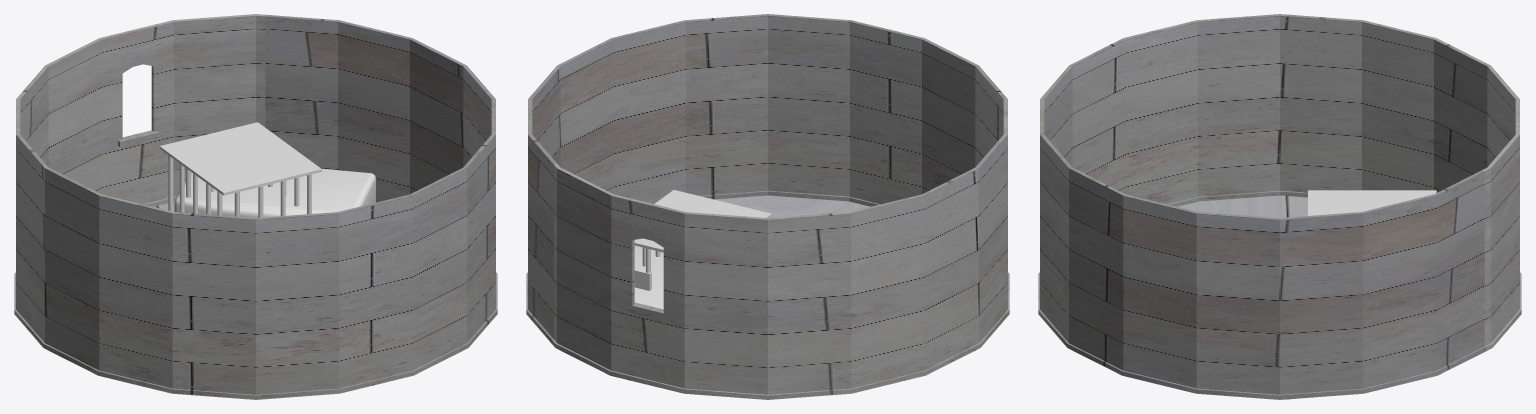
File: Menus.FBX
The picture shows the model from 3 angles, left to right: view 1: azimuth 30°, elevation 25°; view 2: azimuth 150°, elevation 25°; view 3: azimuth 270°, elevation 25°; orthographic projection.
Parts seen in each view (by area): view 1: Cylinder001, Box002, Tarima; view 2: Cylinder001, Box002, Tarima; view 3: Cylinder001, Box002.
Part boxes in pixels (left/top/right/bottom): Cylinder001: left=14, top=14, right=497, bottom=399; Box002: left=159, top=122, right=321, bottom=195; Tarima: left=174, top=168, right=375, bottom=217; Cylinder001: left=526, top=14, right=1009, bottom=399; Box002: left=634, top=190, right=771, bottom=252; Tarima: left=634, top=245, right=663, bottom=309; Cylinder001: left=1038, top=14, right=1521, bottom=399; Box002: left=1308, top=190, right=1436, bottom=215.
Bounding box in the file's own units: 215 × 87.11 × 212.
